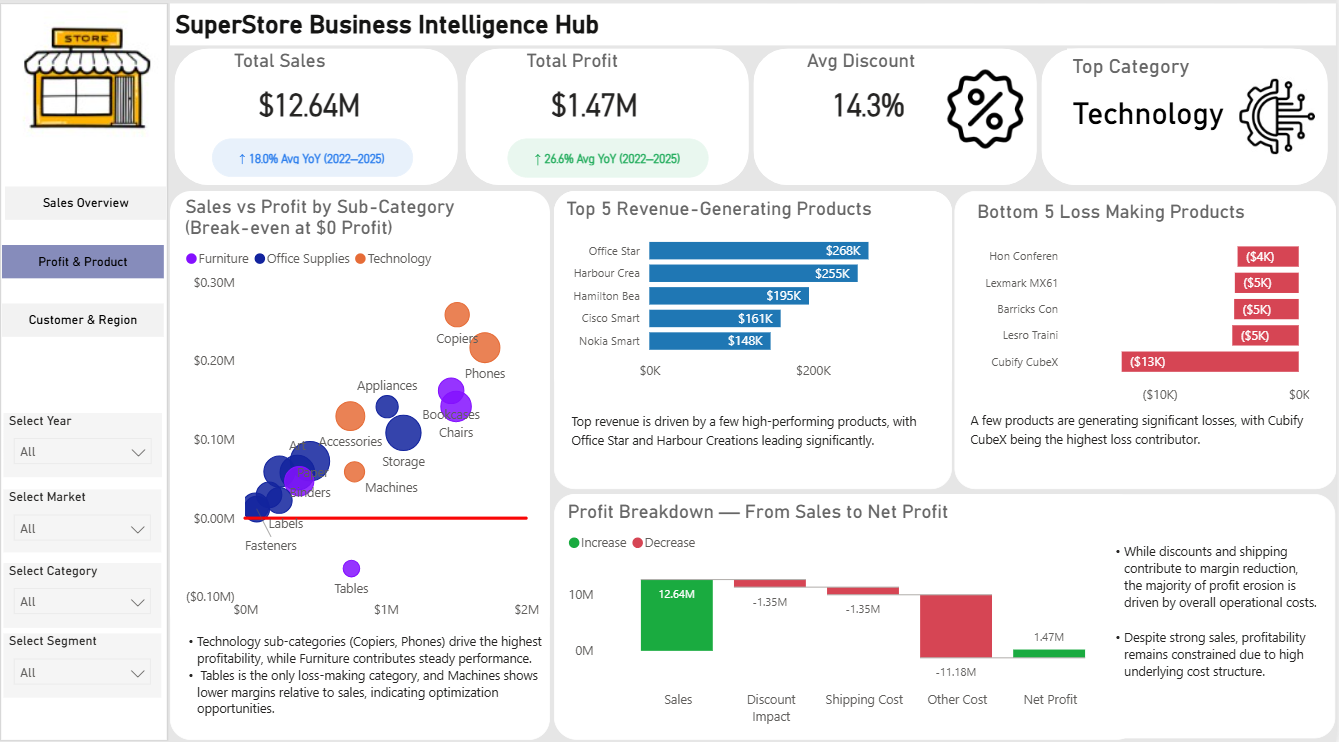

The page's visual inventory and layout, read from the dashboard file:
{"tool":"powerbi","page":{"name":"Profit & Product","canvas":[1280,720],"ordinal":1},"visuals":[{"type":"shape","box":[4.4,10.2,160.1,704.5],"z":0},{"type":"shape","box":[170,52.7,270.4,130.4],"z":1000},{"type":"slicer","title":"Select Year","fields":{"Values":["Date.Year"]},"box":[6.9,401.2,151.2,61.2],"z":2000},{"type":"cardVisual","title":"Total Sales","fields":{"Data":["Measure.Total Sales"]},"box":[222.5,54.3,197.2,81.1],"z":3000},{"type":"slicer","title":"Select Market","fields":{"Values":["Region.market"]},"box":[7.5,473.8,150.6,60],"z":4000},{"type":"shape","box":[723,53.5,270.4,130.4],"z":5000,"group":"g1"},{"type":"cardVisual","title":"Total Sales","fields":{"Data":["Measure.Sales KPI Label1"]},"box":[206.4,138.3,191.7,36.7],"z":5000},{"type":"cardVisual","title":"Avg Discount","fields":{"Data":["Measure.Avg Discount"]},"box":[769.3,55.6,197.7,81.6],"z":6000,"group":"g1"},{"type":"slicer","title":"Select Category","fields":{"Values":["Product.category"]},"box":[7.5,543.8,150.6,61.9],"z":6000},{"type":"shape","box":[448.4,52.7,270.4,130.4],"z":7000},{"type":"shape","box":[1001.4,53.6,270.4,130.4],"z":7000,"group":"g1"},{"type":"slicer","title":"Select Segment","fields":{"Values":["Customer.segment"]},"box":[7.5,611.2,150.6,61.2],"z":8000},{"type":"cardVisual","title":"Total Profit","fields":{"Data":["Measure.Total Profit"]},"box":[500.9,54.3,197.2,81.1],"z":9000},{"type":"actionButton","box":[8,184.5,154.3,31.8],"z":10000},{"type":"image","box":[6.4,14.3,154.3,125.7],"z":11000},{"type":"textbox","box":[166.6,9.5,1113.4,39.8],"z":12000},{"type":"group","id":"g1","title":"Group 1","box":[723,53.5,548.8,130.5],"z":13000},{"type":"shape","box":[166.2,191.9,362.4,521.4],"z":14000},{"type":"cardVisual","title":"Total Sales","fields":{"Data":["Measure.Profit KPI Label"]},"box":[488.4,138.4,191.9,37.2],"z":15000},{"type":"scatterChart","title":"Sales vs Profit by Sub-Category (Break-even at $0 Profit)","fields":{"X":["Measure.Total Sales"],"Y":["Measure.Total Profit"],"Series":["Product.Category"],"Category":["Product.sub_category"],"Size":["Sum(Orders.quantity)"]},"box":[166.2,189.1,362.4,422.6],"z":16000},{"type":"image","box":[895.4,64.1,92.4,93.9],"z":16012,"group":"g1"},{"type":"textbox","box":[169,605.9,359.5,90.2],"z":17000},{"type":"shape","box":[532.2,189.3,380.1,284.7],"z":18000},{"type":"barChart","title":"Top 5 Revenue-Generating Products","fields":{"Y":["Measure.Total Sales"],"Category":["Product.Short Product Name"]},"box":[532.2,189.3,380.1,196.8],"z":19000},{"type":"shape","box":[914.8,188.8,364.9,284.7],"z":20000},{"type":"barChart","title":"Bottom 5 Loss Making Products","fields":{"Category":["Product.Short Product Name"],"Y":["Measure.Total Profit"]},"box":[925.4,191.3,340.7,216.5],"z":21000},{"type":"textbox","box":[544.3,393.9,356.7,77.3],"z":22000},{"type":"textbox","box":[925.3,392.5,340.9,70.2],"z":23000},{"type":"shape","box":[532.8,478.4,746.3,233.5],"z":24000},{"type":"waterfallChart","title":"Profit Breakdown — From Sales to Net Profit","fields":{"Category":["Waterfall Steps.Step"],"Y":["WaterFall1.Waterfall Value1"]},"box":[534.5,478.5,555.7,234.7],"z":25000},{"type":"textbox","box":[1054.2,520,212,183.3],"z":26000},{"type":"shape","box":[998.3,52.5,270.4,130.4],"z":27000},{"type":"textbox","box":[1022.7,53,187.6,120.3],"z":28000},{"type":"image","box":[1174.6,71.6,88.8,87.4],"z":29000},{"type":"actionButton","box":[6.4,240.9,154.5,31.8],"z":30000},{"type":"actionButton","box":[6.4,296.4,154.5,31.8],"z":31000}]}

Visuals, with their boxes in screenshot pixels (x1, y1, x2, y2), scaled from the page's 1280x720 canvas onto the 1339x742 screenshot:
shape: <region>5, 11, 172, 737</region>
shape: <region>178, 54, 461, 189</region>
"Select Year" slicer: <region>7, 413, 165, 477</region>
"Total Sales" cardVisual: <region>233, 56, 439, 140</region>
"Select Market" slicer: <region>8, 488, 165, 550</region>
shape: <region>756, 55, 1039, 190</region>
"Total Sales" cardVisual: <region>216, 143, 416, 180</region>
"Avg Discount" cardVisual: <region>805, 57, 1012, 141</region>
"Select Category" slicer: <region>8, 560, 165, 624</region>
shape: <region>469, 54, 752, 189</region>
shape: <region>1048, 55, 1330, 190</region>
"Select Segment" slicer: <region>8, 630, 165, 693</region>
"Total Profit" cardVisual: <region>524, 56, 730, 140</region>
actionButton: <region>8, 190, 170, 223</region>
image: <region>7, 15, 168, 144</region>
textbox: <region>174, 10, 1338, 51</region>
"Group 1" group: <region>756, 55, 1330, 190</region>
shape: <region>174, 198, 553, 735</region>
"Total Sales" cardVisual: <region>511, 143, 712, 181</region>
"Sales vs Profit by Sub-Category (Break-even at $0 Profit)" scatterChart: <region>174, 195, 553, 630</region>
image: <region>937, 66, 1033, 163</region>
textbox: <region>177, 624, 553, 717</region>
shape: <region>557, 195, 954, 488</region>
"Top 5 Revenue-Generating Products" barChart: <region>557, 195, 954, 398</region>
shape: <region>957, 195, 1338, 488</region>
"Bottom 5 Loss Making Products" barChart: <region>968, 197, 1324, 420</region>
textbox: <region>569, 406, 943, 486</region>
textbox: <region>968, 404, 1325, 477</region>
shape: <region>557, 493, 1338, 734</region>
"Profit Breakdown — From Sales to Net Profit" waterfallChart: <region>559, 493, 1140, 735</region>
textbox: <region>1103, 536, 1325, 725</region>
shape: <region>1044, 54, 1327, 188</region>
textbox: <region>1070, 55, 1266, 179</region>
image: <region>1229, 74, 1322, 164</region>
actionButton: <region>7, 248, 168, 281</region>
actionButton: <region>7, 305, 168, 338</region>
